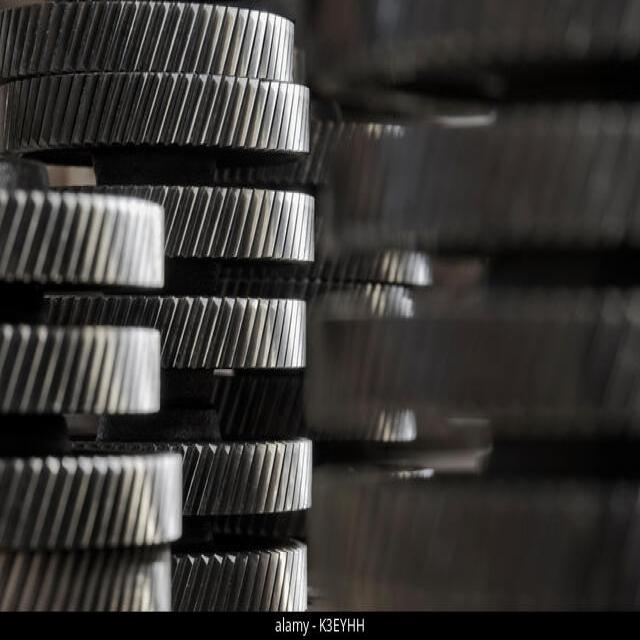Gear: (302, 290, 640, 438), (308, 462, 640, 610), (313, 101, 640, 247), (304, 0, 640, 90), (0, 74, 315, 159), (0, 0, 300, 82), (49, 180, 318, 266), (39, 292, 310, 372), (71, 434, 317, 518), (0, 448, 187, 554), (0, 199, 168, 291), (0, 325, 167, 417), (211, 373, 420, 446), (215, 121, 409, 186), (0, 546, 178, 612), (221, 236, 436, 290), (174, 532, 312, 610), (219, 271, 416, 320)
